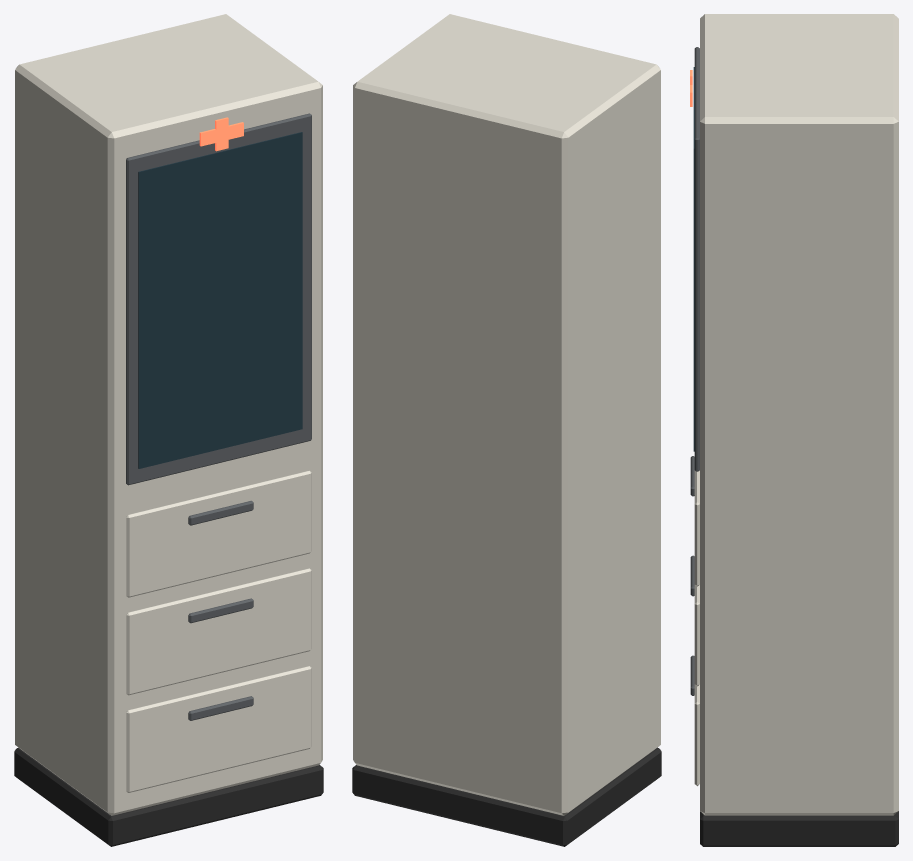
Rendered from cabinet.glb.
The picture shows the model from 3 angles, left to right: view 1: azimuth 30°, elevation 25°; view 2: azimuth 150°, elevation 25°; view 3: azimuth 270°, elevation 25°; orthographic projection. The views are drawn at different scales.
Parts seen in each view (by area): view 1: cabinet; view 2: cabinet; view 3: cabinet.
Boxes of the visible parts, x1,y1,x2,y2 form: cabinet: [14, 14, 323, 846]; cabinet: [352, 14, 661, 846]; cabinet: [690, 14, 898, 846].
Bounding box in the file's own units: 0.6 × 1.9 × 0.493.
